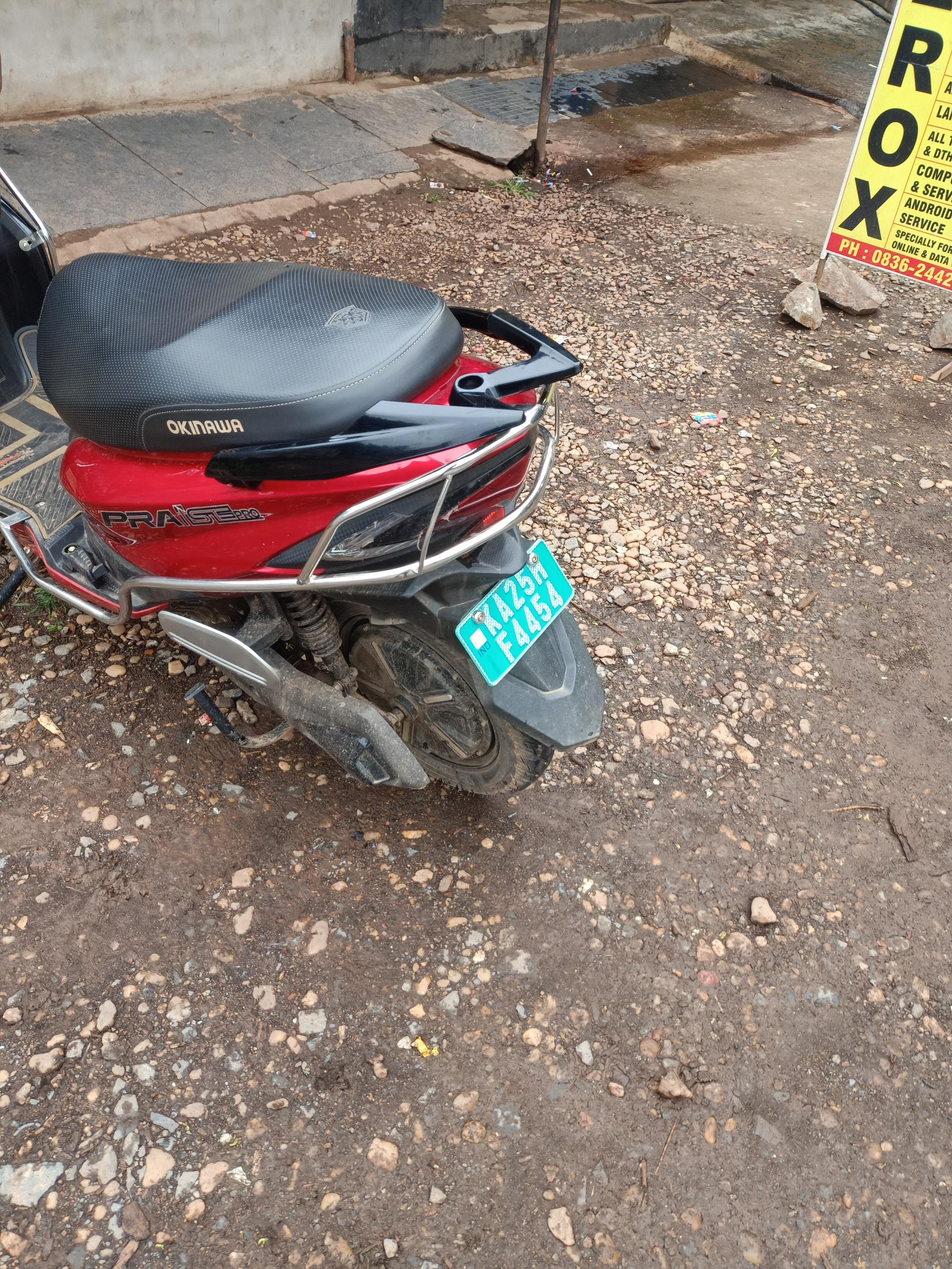green license plate: (448, 541, 572, 686)
